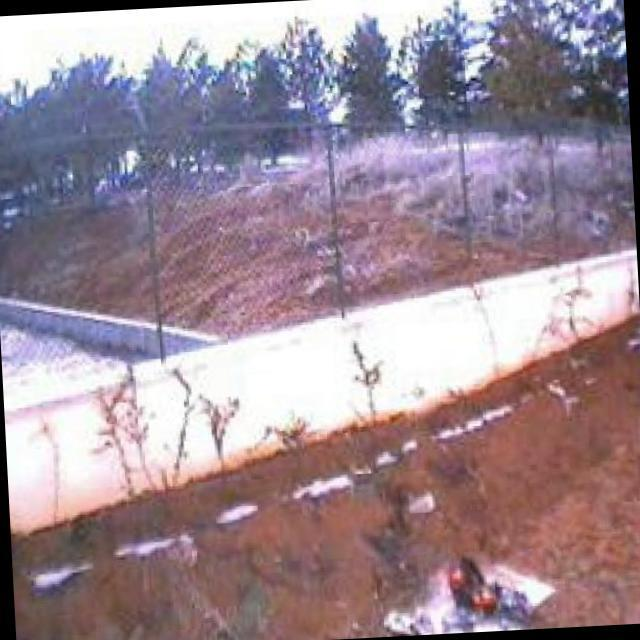Fire: (438, 552, 506, 622)
